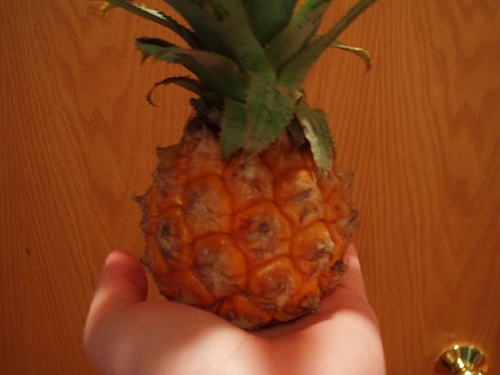pineapple: (100, 0, 375, 332)
